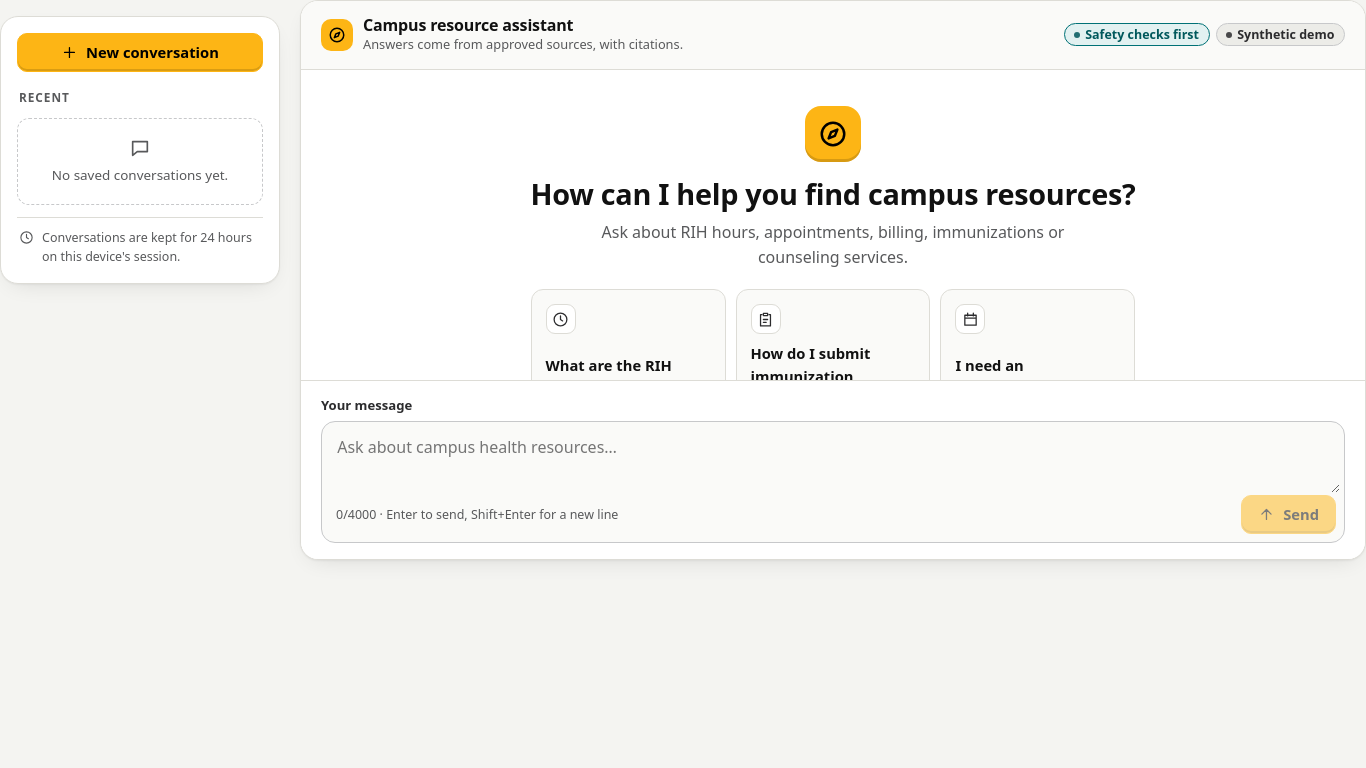
Test: ChatView › shows a friendly error with the request reference when the service is unavailable
Type "hours?" into the text box labelled "Your message".
click(833, 460); type("hours?")  # box top-left (326, 426), bottom-right (1340, 493)
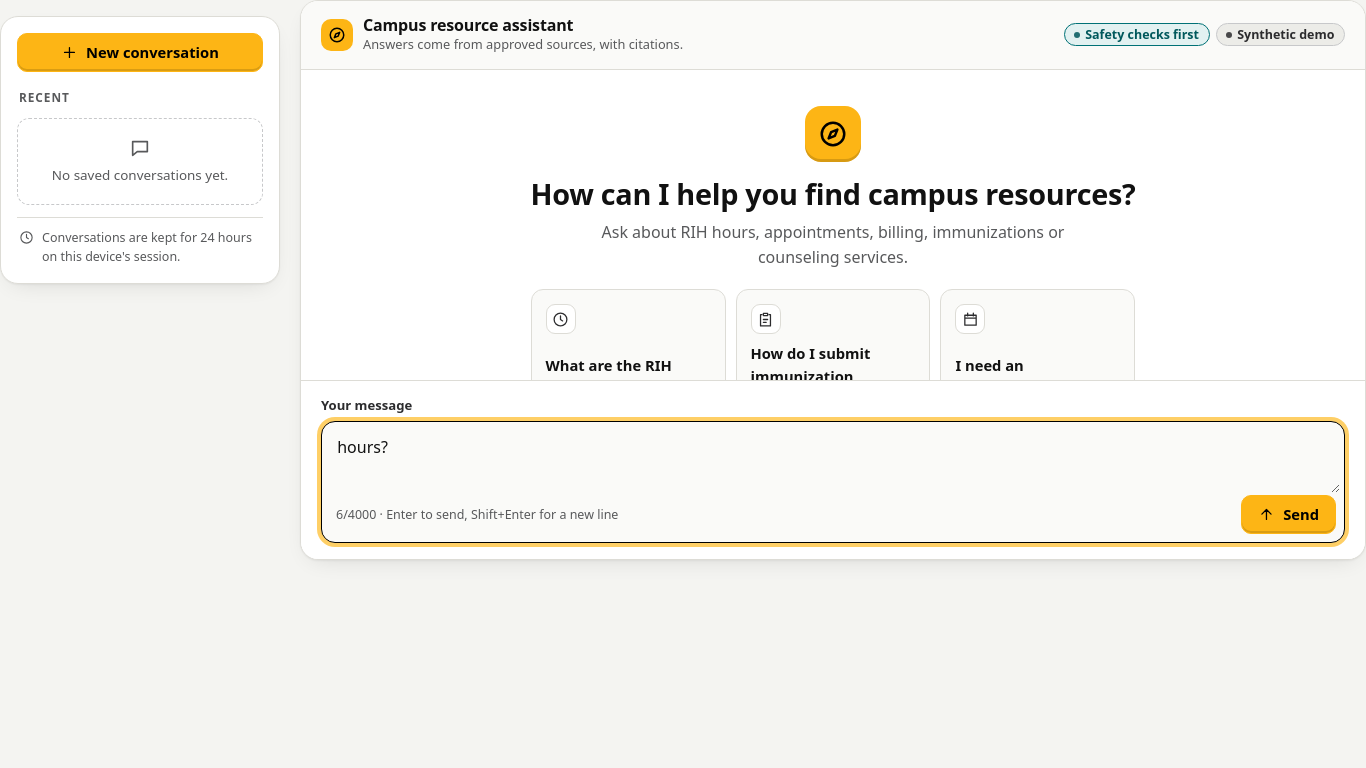
Click the button "Send".
click(1289, 515)  # box top-left (1241, 495), bottom-right (1336, 534)
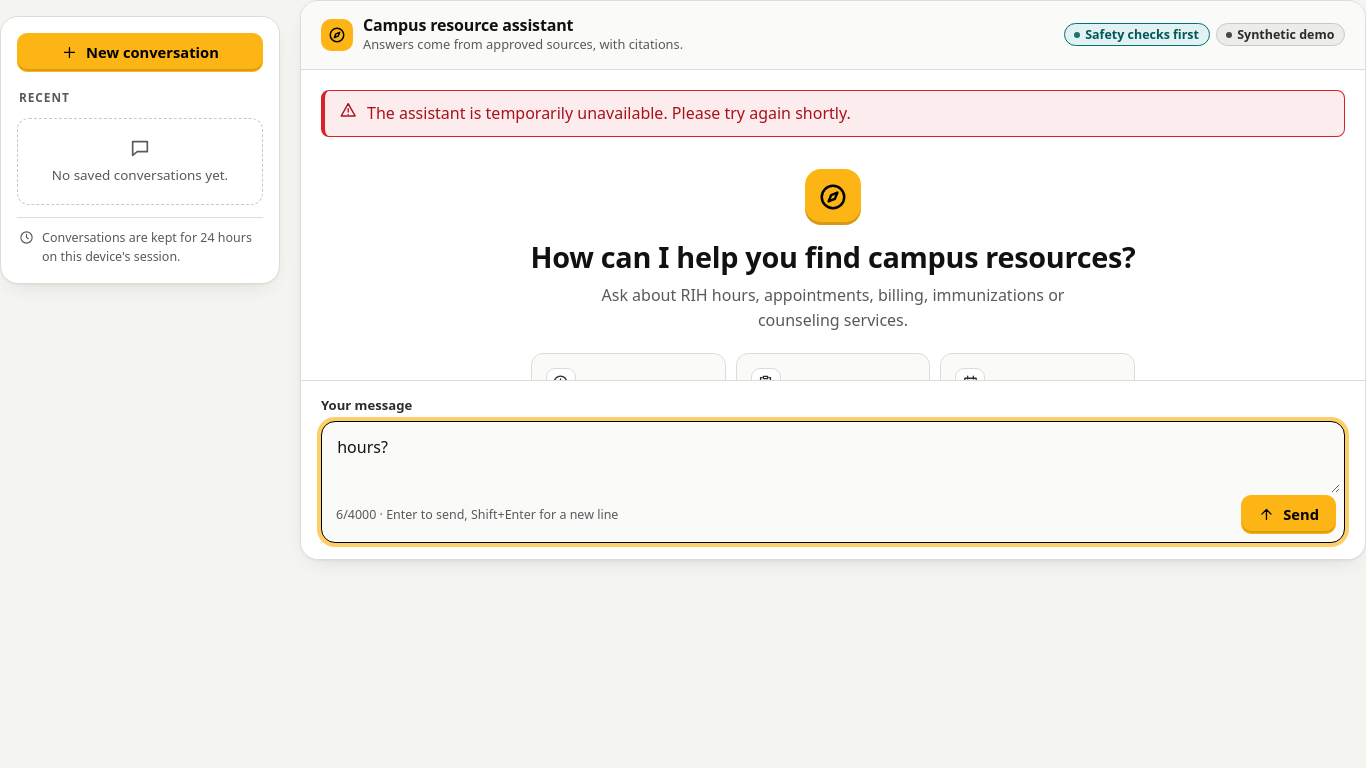
Check: the message shows "temporarily unavailable", box top-left (367, 102), bottom-right (851, 124)
